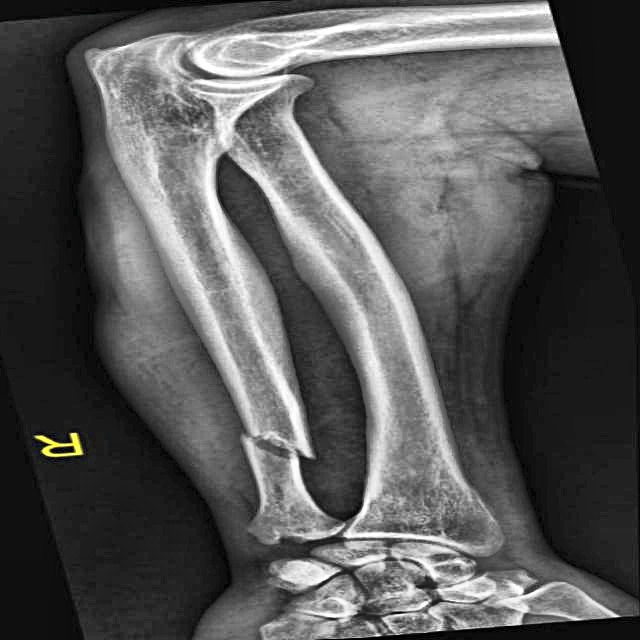Oblique Displaced: (187, 407, 345, 485)
